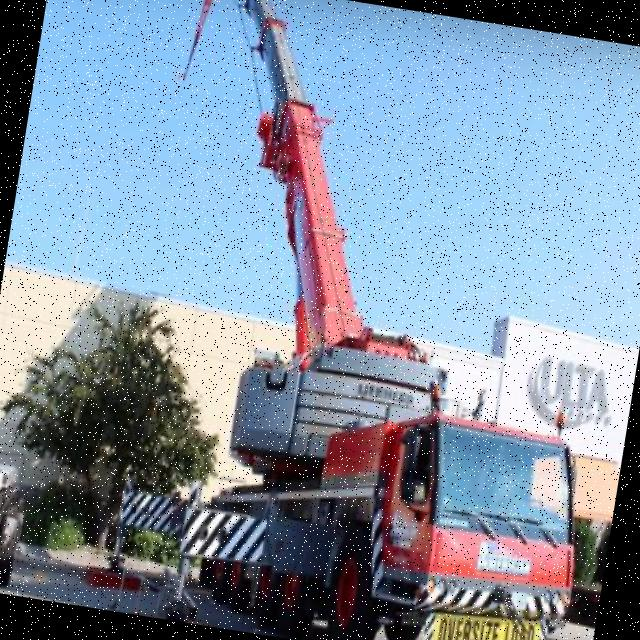Mobile Crane: (94, 0, 640, 640)
